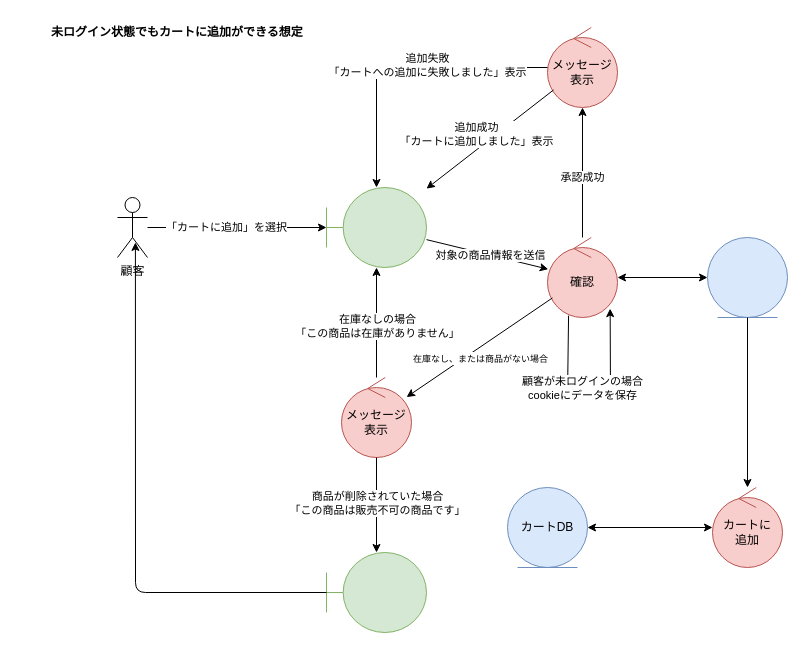
Some shapes in this 805 by 650 pixel diagram are drawn without their labels. The box of each missing label's shape, as (x1, y1, x2, y2) in pixels:
商品DB: (706, 236, 788, 318)
商品一覧画面: (326, 552, 426, 632)
商品詳細画面: (326, 186, 426, 268)
